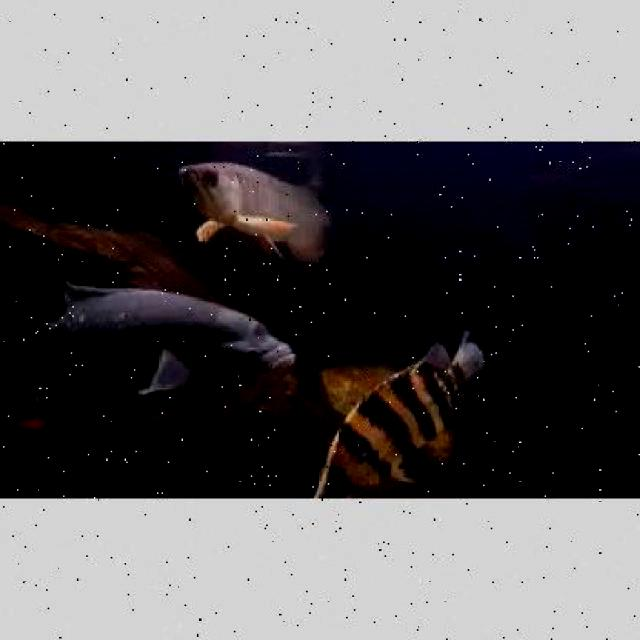gurame: (41, 290, 294, 430)
